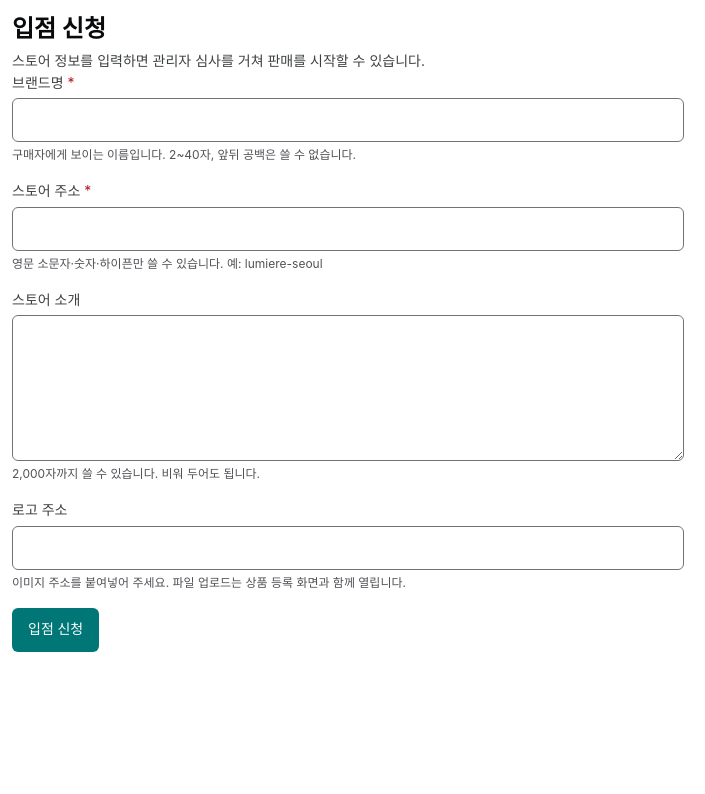
Test: F1 — applying › leaves an untouched optional field out of the body rather than sending ""
The width and height of the screenshot is (705, 794).
Type "해뜰녘" into the field labelled "브랜드명 *" at coordinates (348, 120), box [12,98,684,142]
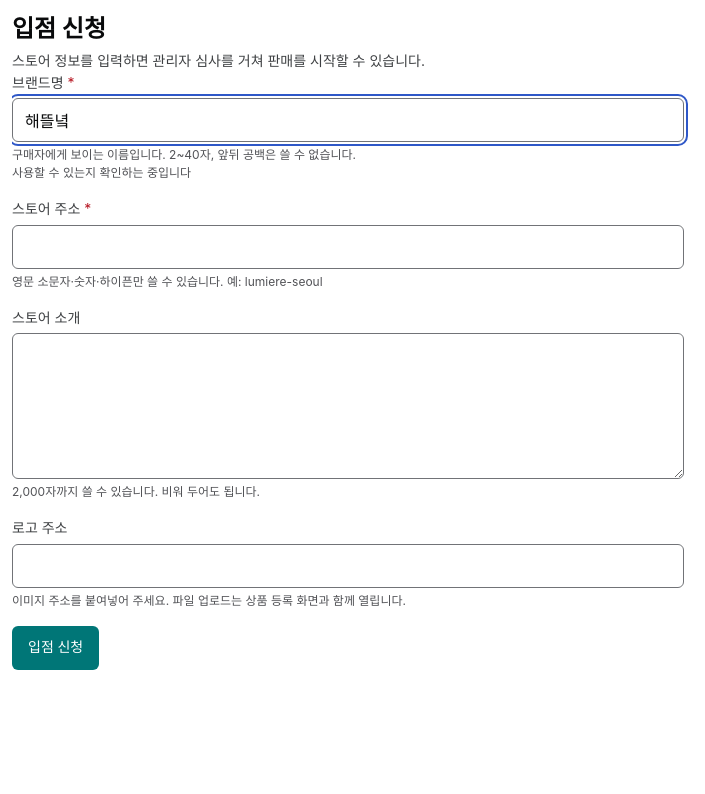
Type "haetteulnyeok" into the field labelled "스토어 주소 *" at coordinates (348, 247), box [12,225,684,269]
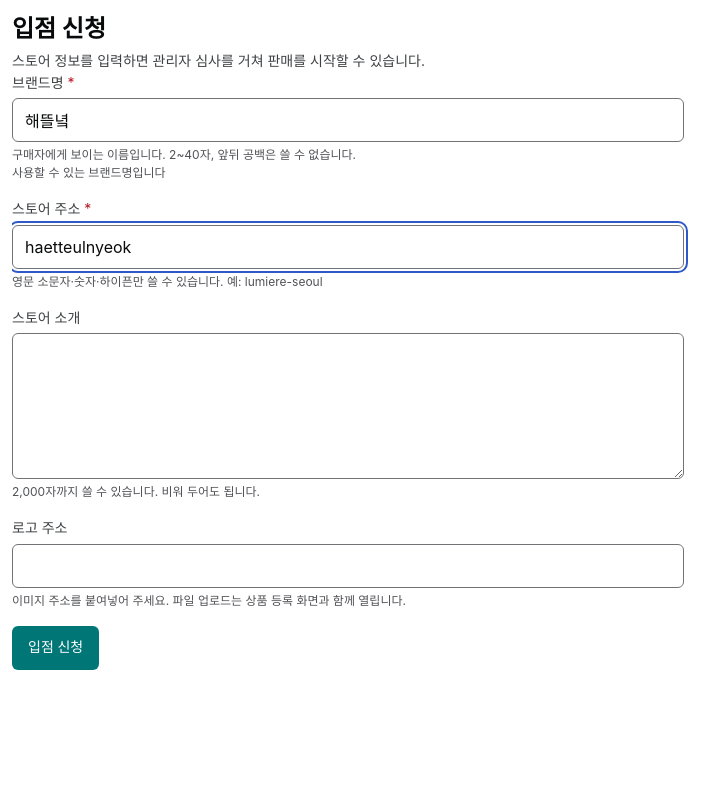
Click the button "입점 신청" at coordinates (56, 648), box [12,626,99,670]
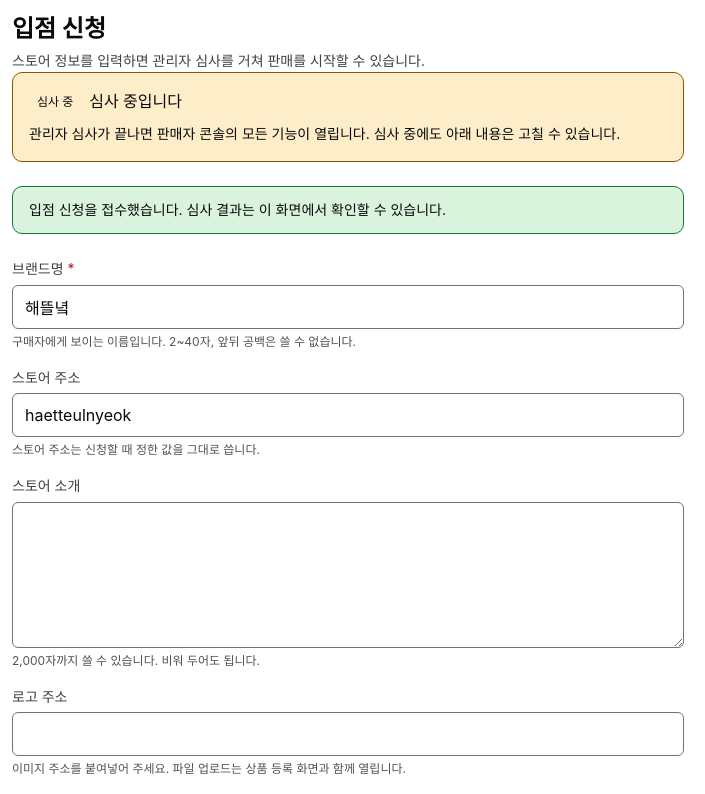
Result: the text "입점 신청을 접수했습니다. 심사 결과는 이 화면에서 확인할 수 있습니다." is shown at [12,186,684,234]
